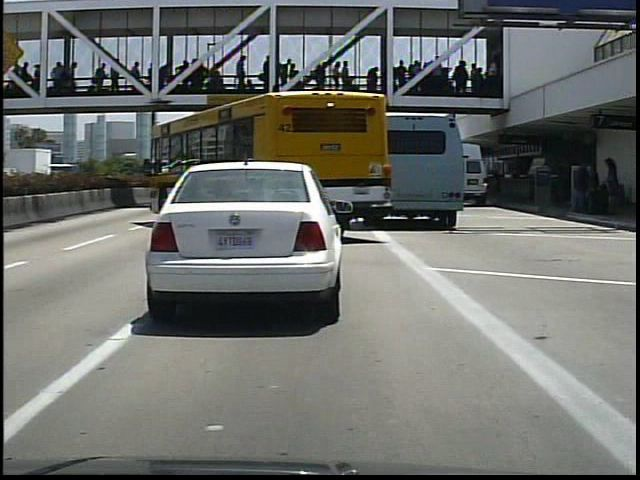person: (569, 155, 601, 216), (601, 153, 629, 218)
